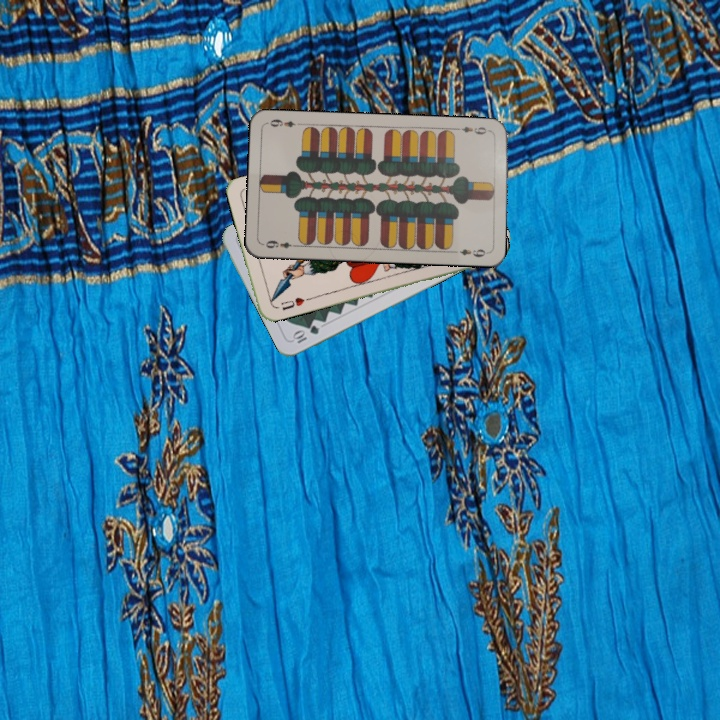E9: (453, 122, 493, 137), (262, 236, 300, 251)
G10: (289, 321, 322, 346)
HU: (277, 293, 312, 313)
